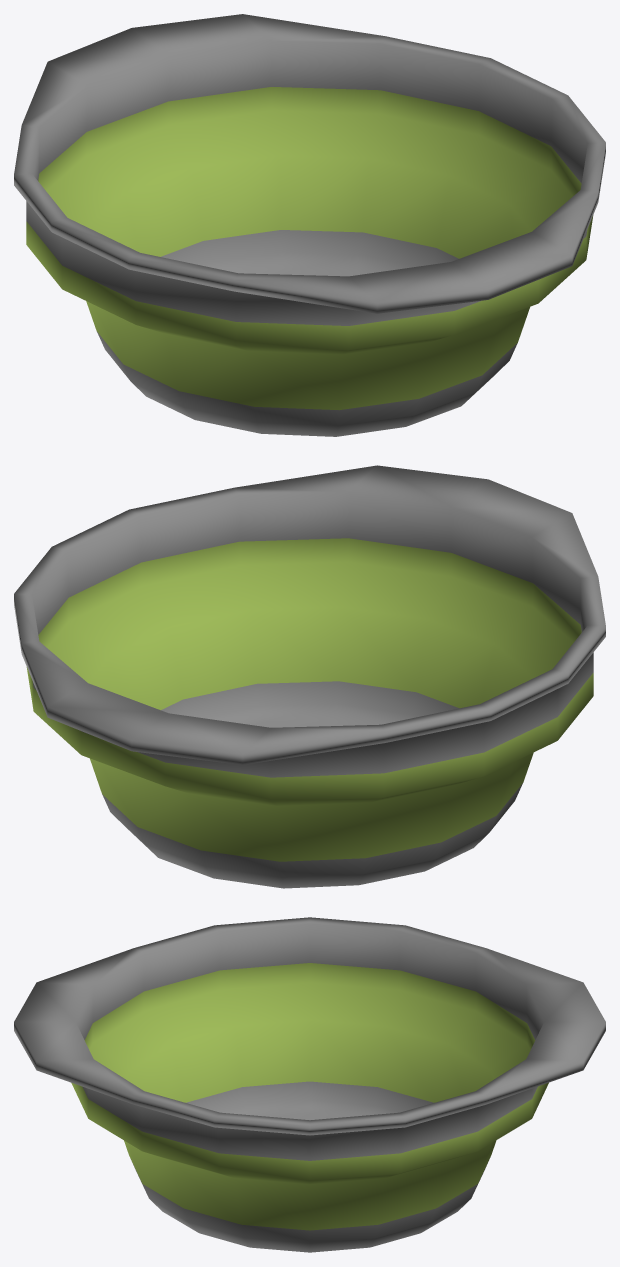
Rendered from green_bowl.dae.
3 views of the same model, one above another, from view 1: azimuth 30°, elevation 25°; view 2: azimuth 150°, elevation 25°; view 3: azimuth 270°, elevation 25° (orthographic). The views are drawn at different scales.
Visible parts, largest first — view 1: Circle; view 2: Circle; view 3: Circle.
Boxes of the visible parts, box(x1,y1,x2,y2) form: Circle: box(14, 14, 605, 436); Circle: box(14, 465, 605, 888); Circle: box(14, 917, 605, 1252).
Bounding box in the file's own units: 0.2385 × 0.2853 × 0.0874.
